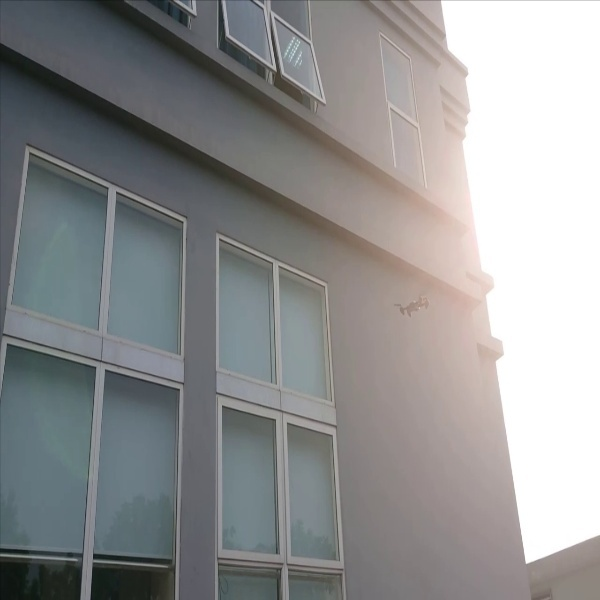drone: (389, 289, 435, 323)
